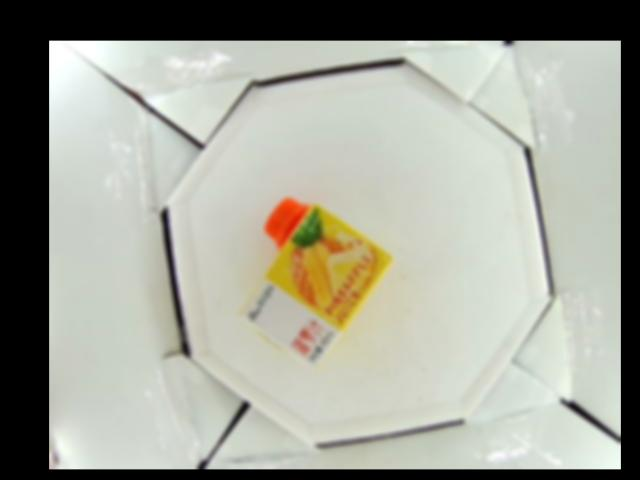Bottle: (239, 194, 392, 370)
